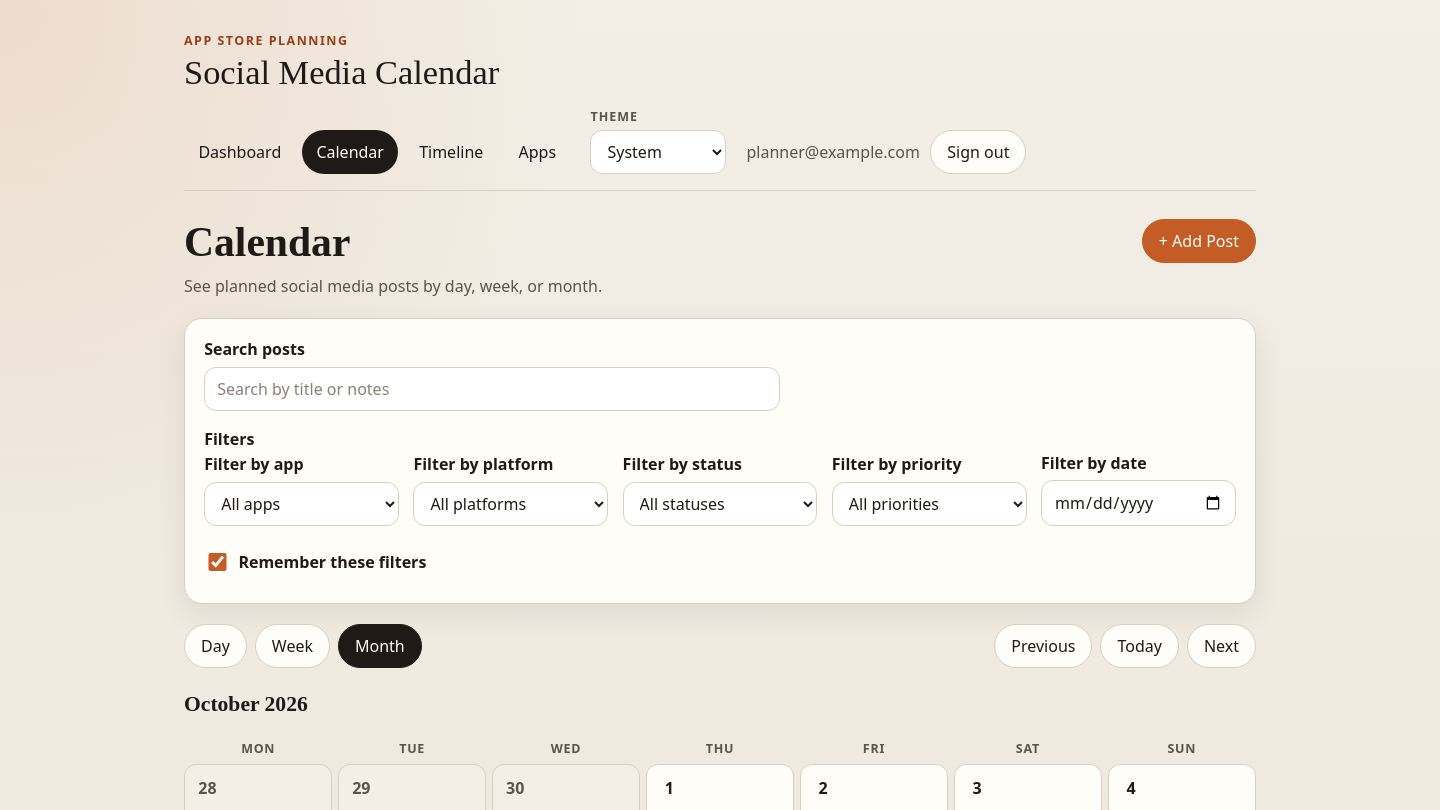
Test: B-009 calendar › says when the selected day has no posts
The image size is (1440, 810).
Click the button "Day" at (215, 646), box [184, 624, 247, 668]
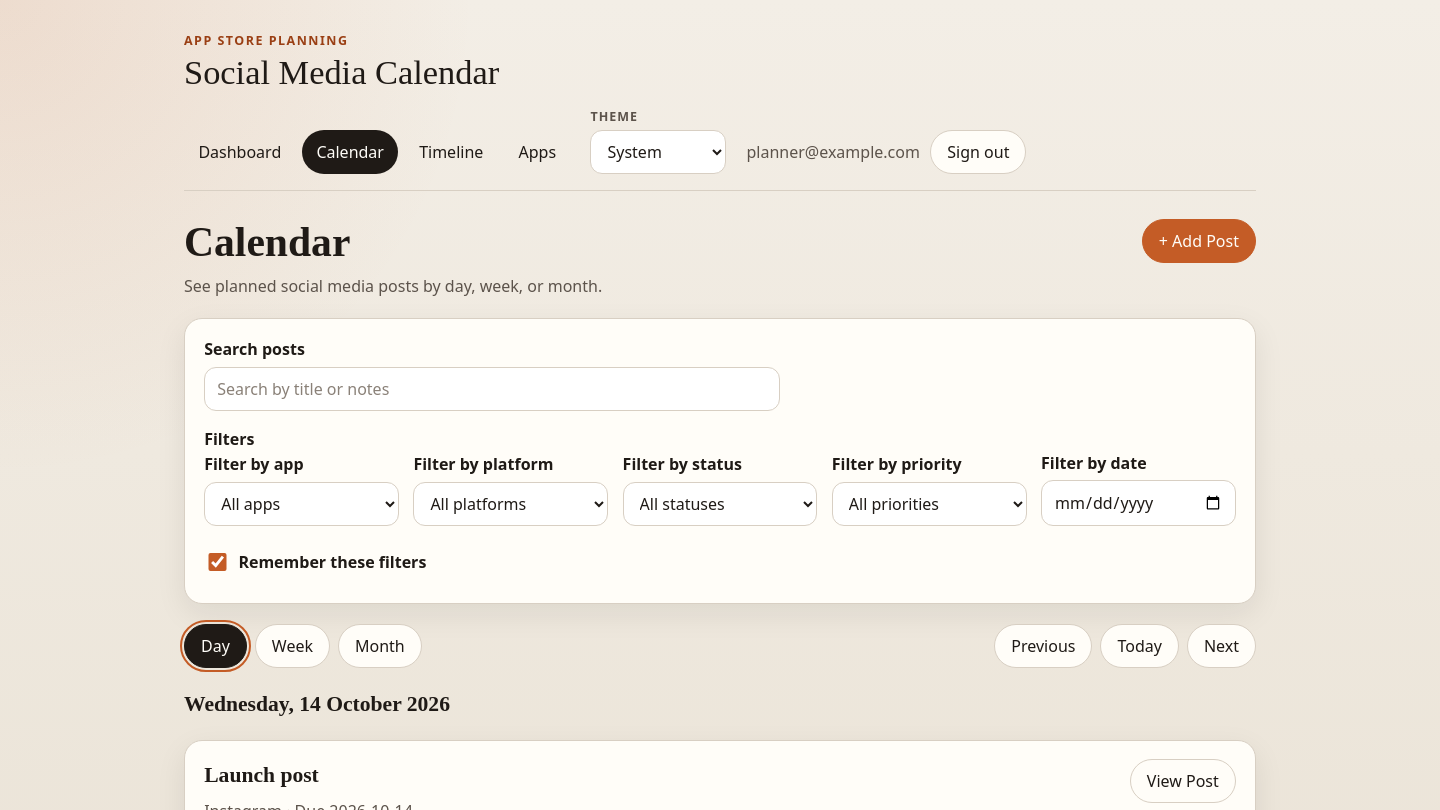
Expected: the link "Launch post" is shown, [204, 763, 319, 787]
Click the button "Next" at (1221, 646), box [1187, 624, 1256, 668]
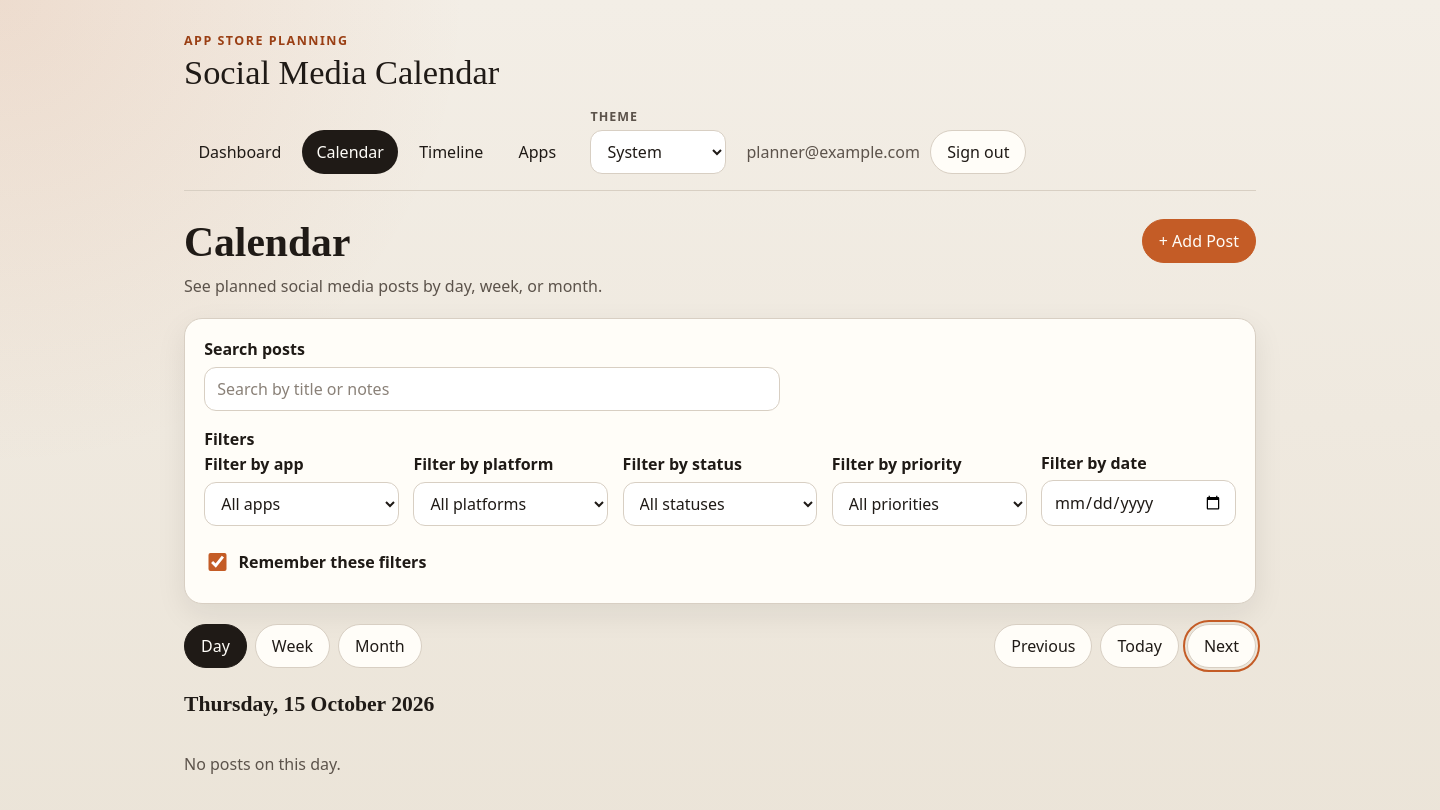
Result: the link "Launch post" is gone
Result: the text "No posts on this day." is shown at [184, 753, 341, 775]
Click the button "Today" at (1140, 646), box [1100, 624, 1179, 668]
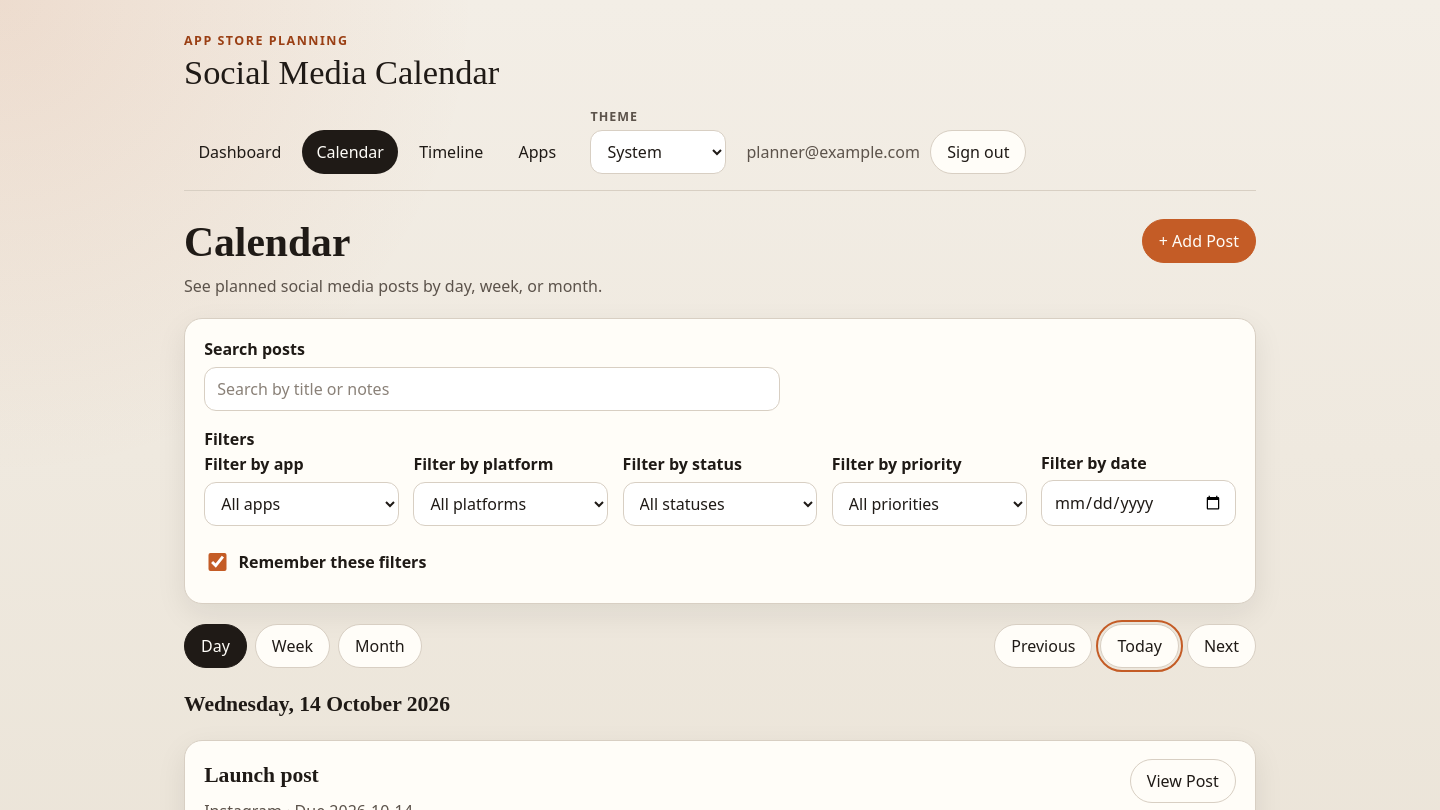
Result: the link "Launch post" is shown at [204, 763, 319, 787]
